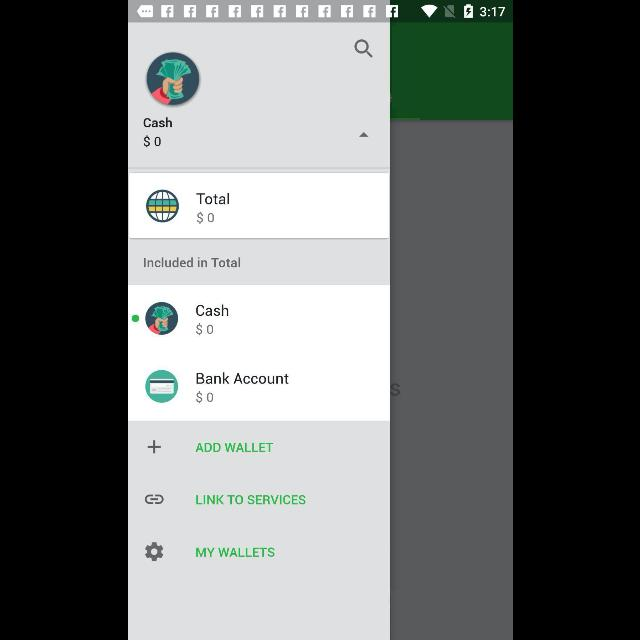icon: (353, 40, 372, 59), (145, 542, 163, 562), (148, 441, 160, 454), (358, 131, 368, 137)
image: (146, 52, 198, 106), (144, 302, 178, 336), (144, 370, 178, 402), (146, 190, 178, 222), (144, 494, 164, 504)
panel: (128, 22, 388, 640)
text: (195, 494, 305, 506), (143, 256, 241, 268), (195, 372, 288, 384), (195, 443, 273, 453), (196, 547, 274, 557), (195, 304, 228, 316), (196, 193, 228, 204), (142, 118, 172, 128), (195, 391, 213, 404), (142, 136, 160, 148), (196, 212, 214, 224), (195, 323, 212, 335)
uppertaskbar: (128, 1, 512, 23)
